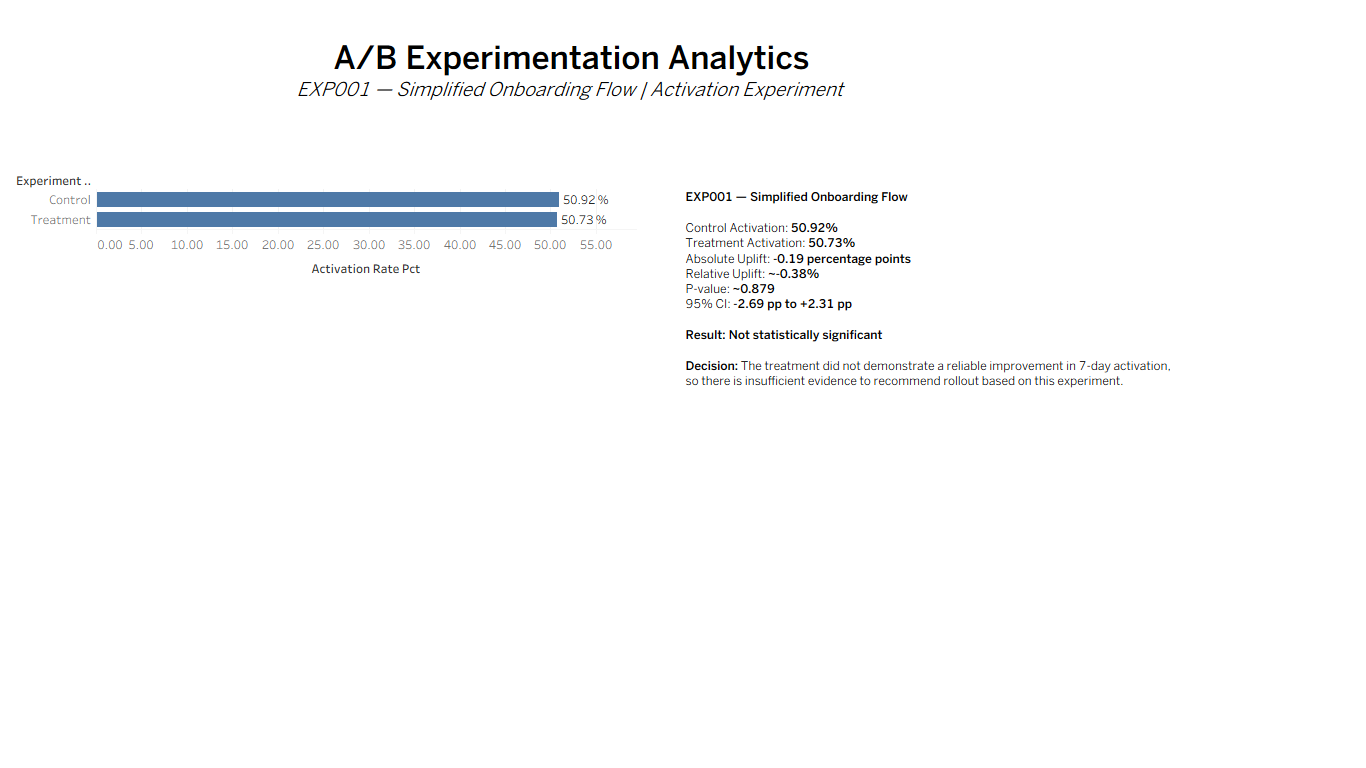

This screenshot's page, from the dashboard's own definition file:
{"tool":"tableau","page":{"name":"Experimentation.","canvas":[1366,768],"ordinal":1},"visuals":[{"type":"text","box":[237,7,669,126]},{"type":"text","box":[683,84,492,420]},{"type":"worksheet","title":"EXP001 Activation Comparison","mark":"Bar","rows":["EXPERIMENT_GROUP"],"cols":["ACTIVATION_RATE_PCT"],"box":[16,169,620,420]}]}

Visuals, with their boxes in screenshot pixels (x1, y1, x2, y2), scaled from the page's 1366x768 canvas onto the 1366x768 screenshot:
text: 237/7/906/133
text: 683/84/1175/504
"EXP001 Activation Comparison" worksheet (Bar marks): 16/169/636/589
